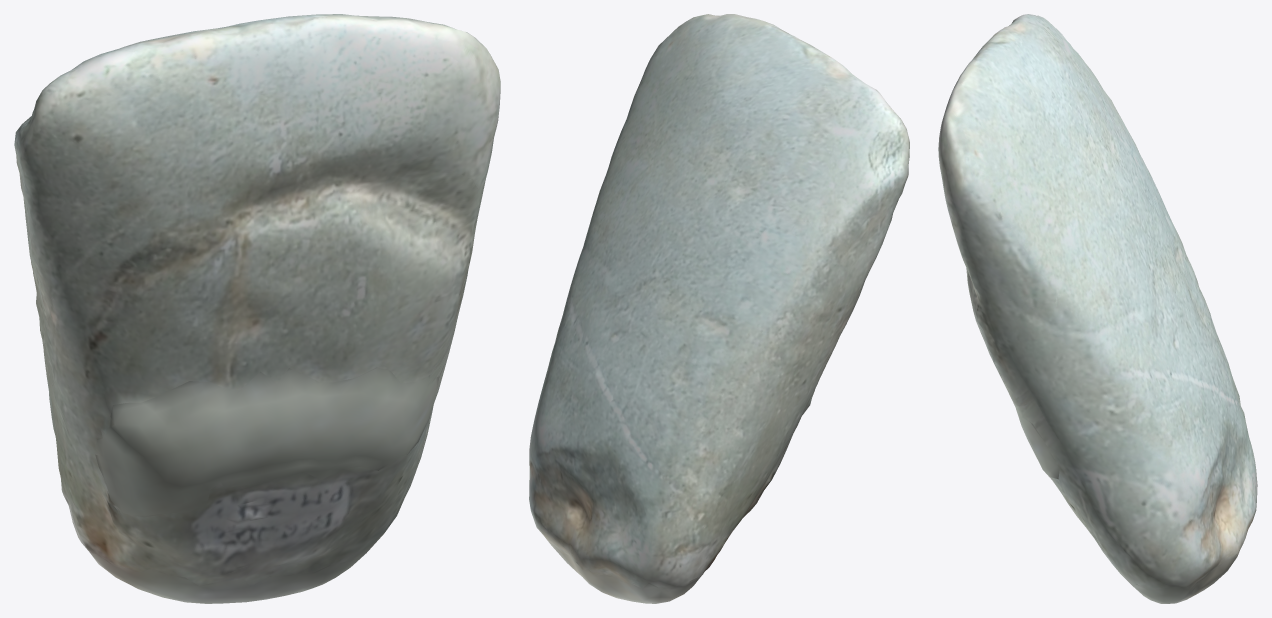
Rendered from PIEZA11.obj.
3 renders of one model, left to right at view 1: azimuth 30°, elevation 25°; view 2: azimuth 150°, elevation 25°; view 3: azimuth 270°, elevation 25°, orthographic. The views are drawn at different scales.
Visible parts, largest first — view 1: mmGroup0; view 2: mmGroup0; view 3: mmGroup0.
Boxes of the visible parts, box(x1,y1,x2,y2) form: mmGroup0: box(14, 14, 500, 603); mmGroup0: box(529, 14, 909, 603); mmGroup0: box(938, 14, 1257, 603).
Size of the model in its own units: 0.1582 by 0.2359 by 0.1351.
2 materials, 2 textured.
